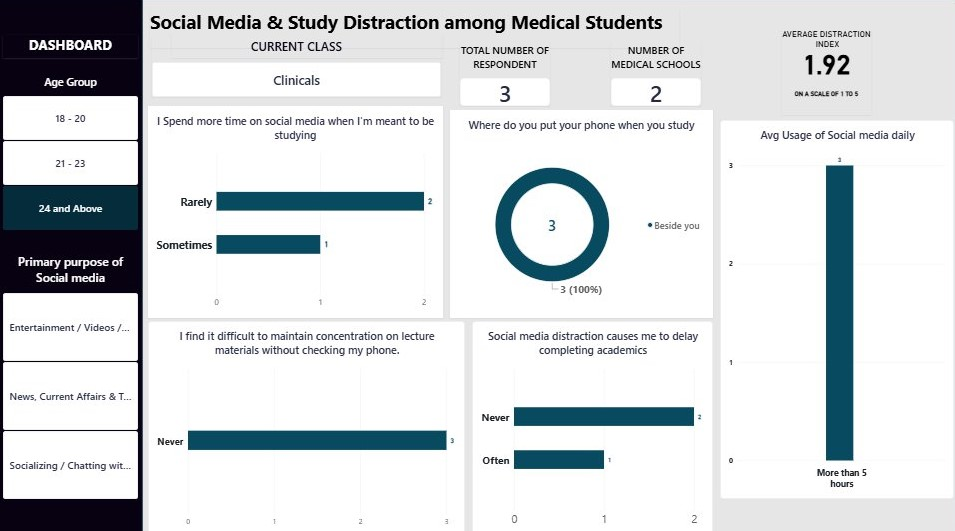

Layout of this report page (visuals, bound fields, positions):
{"tool":"powerbi","page":{"name":"Page 2","canvas":[1920,1080],"ordinal":1},"visuals":[{"type":"group","id":"g1","title":"Group 1","box":[0,0,1920,1080],"z":0},{"type":"shape","box":[288,0,1632,1078],"z":0,"group":"g1"},{"type":"shape","box":[0,0,288.7,1080],"z":1000,"group":"g1"},{"type":"textbox","box":[304,22,1058,78],"z":1000},{"type":"cardVisual","title":"TOTAL NUMBER OF RESPONDENT","fields":{"Data":["CountNonNull(Sheet1.Institution/MSA)"]},"box":[924,90,180,126],"z":2000},{"type":"cardVisual","title":"NUMBER OF MEDICAL SCHOOLS","fields":{"Data":["Count(Sheet1.Institution/MSA)"]},"box":[1226,90,180,126],"z":3000},{"type":"textbox","box":[1568,62,178,172],"z":5000},{"type":"advancedSlicerVisual","title":"CURRENT CLASS","fields":{"Values":["Sheet1.What is your current academic level?"]},"box":[308,80,578,118],"z":5001},{"type":"advancedSlicerVisual","title":"Age Group","fields":{"Values":["Sheet1.What is your age"]},"box":[10,152,270,312],"z":5002},{"type":"textbox","box":[10,74,270,46],"z":5003},{"type":"textbox","box":[348,74,542,46],"z":5003,"group":"g1"},{"type":"advancedSlicerVisual","title":"Primary purpose of Social media ","fields":{"Values":["Sheet1.What is your primary purpose for using social media on a daily basis?"]},"box":[10,510,270,494],"z":5004},{"type":"clusteredColumnChart","title":"Avg Usage of Social media daily","fields":{"Category":["Sheet1.On average, considering both weekdays and weekends combined, how many hours per day do you spend on social media "],"Y":["CountNonNull(Sheet1.On average, considering both weekdays and weekends combined, how many hours per day do you spend on "]},"box":[1444,244,468,758],"z":5005},{"type":"clusteredBarChart","title":"I Spend more time on social media when I''m meant to be studying","fields":{"Category":["Sheet1.I spend more time scrolling on social media than intended when I am supposed to be studying"],"Y":["CountNonNull(Sheet1.I spend more time scrolling on social media than intended when I am supposed to be studying)"]},"box":[300,216,590,424],"z":5006},{"type":"donutChart","title":"Where do you put your phone when you study","fields":{"Category":["Sheet1.Where is your phone when you study?"],"Y":["CountNonNull(Sheet1.Where is your phone when you study?)"]},"box":[904,224,526,416],"z":5007},{"type":"clusteredBarChart","title":"I find it difficult to maintain concentration on lecture materials without checking my phone. ","fields":{"Category":["Sheet1.I find it difficult to maintain concentration on lecture materials without checking my phone."],"Y":["CountNonNull(Sheet1.I find it difficult to maintain concentration on lecture materials without checking my phone.)"]},"box":[300,646,634,432],"z":5008},{"type":"clusteredBarChart","title":"Social media distraction causes me to delay completing academics","fields":{"Category":["Sheet1.Social media distraction causes me to delay completing academic assignments or reading notes."],"Y":["CountNonNull(Sheet1.Social media distraction causes me to delay completing academic assignments or reading notes.)"]},"box":[948,646,482,432],"z":5009}]}

Visuals, with their boxes in screenshot pixels (x1, y1, x2, y2), scaled from the page's 1920x1080 canvas onto the 955x531 screenshot:
"Group 1" group: 0 0 954 530
shape: 143 0 954 530
shape: 0 0 144 530
textbox: 151 11 677 49
"TOTAL NUMBER OF RESPONDENT" cardVisual: 460 44 549 106
"NUMBER OF MEDICAL SCHOOLS" cardVisual: 610 44 699 106
textbox: 780 30 868 115
"CURRENT CLASS" advancedSlicerVisual: 153 39 441 97
"Age Group" advancedSlicerVisual: 5 75 139 228
textbox: 5 36 139 59
textbox: 173 36 443 59
"Primary purpose of Social media " advancedSlicerVisual: 5 251 139 494
"Avg Usage of Social media daily" clusteredColumnChart: 718 120 951 493
"I Spend more time on social media when I''m meant to be studying" clusteredBarChart: 149 106 443 315
"Where do you put your phone when you study" donutChart: 450 110 711 315
"I find it difficult to maintain concentration on lecture materials without checking my phone. " clusteredBarChart: 149 318 465 530
"Social media distraction causes me to delay completing academics" clusteredBarChart: 472 318 711 530
